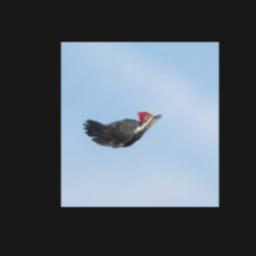Woodpecker: (81, 112, 162, 147)
